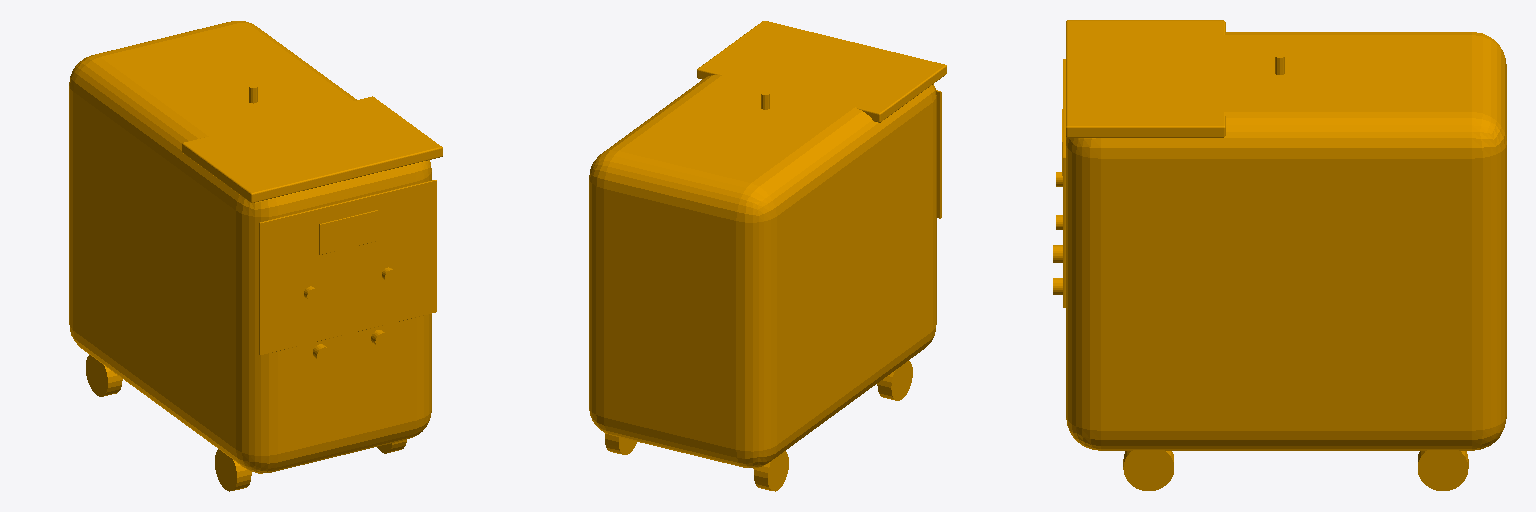
The robot description file, URDF, robot "daihen_wb_p352l":
<?xml version="1.0"?>
<robot name="daihen_wb_p352l">
<link name="base_link"><visual ><geometry ><mesh filename="../meshes/base_link.obj"/></geometry></visual><collision ><origin xyz="0 0 0.35" rpy="0 0 0"/><geometry ><box size="0.395 0.71 0.58"/></geometry></collision><collision ><origin xyz="0 0.025 0.03" rpy="0 0 0"/><geometry ><box size="0.38 0.54 0.06"/></geometry></collision><collision ><origin xyz="-0.156 -0.204 0.6305" rpy="0 0 0"/><geometry ><box size="0.032 0.007 0.032"/></geometry></collision><collision ><origin xyz="0.156 0.301 0.6305" rpy="0 0 0"/><geometry ><box size="0.032 0.007 0.032"/></geometry></collision></link>
<link name="mount"></link>
<link name="torch_outlet"></link>
<joint name="mount_joint" type="fixed"><parent link="base_link"/><child link="mount"/><origin xyz="0 0 0" rpy="0 0 0"/></joint>
<joint name="torch_outlet_joint" type="fixed"><parent link="base_link"/><child link="torch_outlet"/><origin xyz="0.136 -0.326 0.195" rpy="0 0 0"/></joint>
</robot>

--- Render facts (derived) ---
The picture shows the robot from 3 angles, left to right: view 1: azimuth 30°, elevation 25°; view 2: azimuth 150°, elevation 25°; view 3: azimuth 270°, elevation 25°; orthographic projection.
Robot: daihen_wb_p352l — 3 links, 2 joints (2 fixed); root link base_link; default pose: all joints at 0.
Visible links, largest first — view 1: base_link; view 2: base_link; view 3: base_link.
Boxes of the visible links, <box> form: base_link: <box>69,21,442,491</box>; base_link: <box>589,21,946,491</box>; base_link: <box>1053,20,1506,490</box>.
Bounding box of the posed robot: 0.395 × 0.71 × 0.67 m (x, y, z).
1 mesh visuals loaded from 1 distinct referenced files (1 OBJ).
